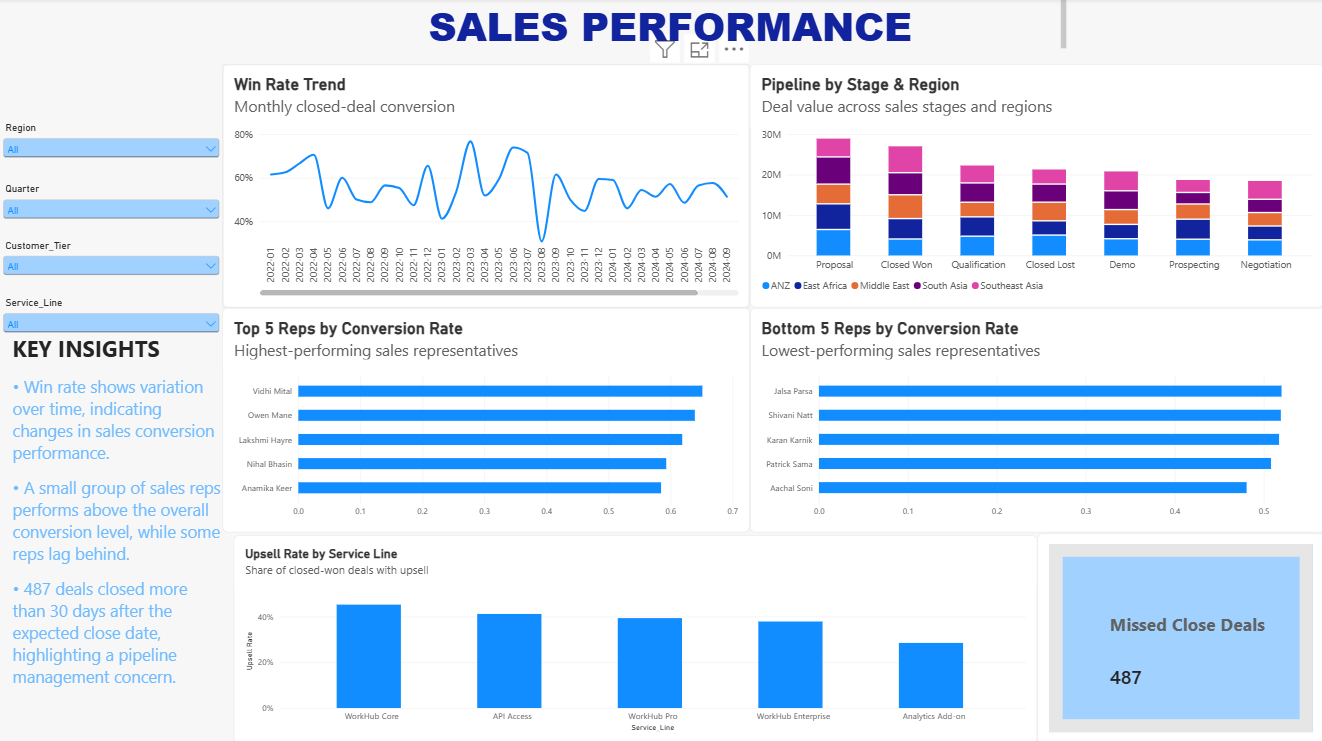

The page's visual inventory and layout, read from the dashboard file:
{"tool":"powerbi","page":{"name":"SALES PERFORMANCE","canvas":[1920,1080],"ordinal":0},"visuals":[{"type":"lineChart","title":"Win Rate Trend","fields":{"Y":["Measure.Win Rate"],"Category":["DateTable.Year Month"]},"box":[322,96,764,352],"z":0},{"type":"columnChart","title":"Pipeline by Stage & Region","fields":{"Category":["Sales_Pipeline.Sales_Stage"],"Y":["Sum(Sales_Pipeline.Deal_Value_USD)"],"Series":["Sales_Pipeline.Region"]},"box":[1086,96,832,352],"z":1000},{"type":"clusteredBarChart","title":"Top 5 Reps by Conversion Rate","fields":{"Category":["Sales_Pipeline.Sales_Rep_Name"],"Y":["Measure.Rep Conversion Rate"]},"box":[322.4,448.8,763.5,325],"z":2000},{"type":"clusteredBarChart","title":"Bottom 5 Reps by Conversion Rate","fields":{"Category":["Sales_Pipeline.Sales_Rep_Name"],"Y":["Measure.Rep Conversion Rate"]},"box":[1086.4,449.4,833.3,324.7],"z":3000},{"type":"clusteredColumnChart","title":"Upsell Rate by Service Line","fields":{"Y":["Measure.Upsell Rate"],"Category":["Sales_Pipeline.Service_Line"]},"box":[338,778,1163.3,301.8],"z":4000},{"type":"cardVisual","title":"Missed Close Deals","fields":{"Data":["Measure.Missed Close Deals"]},"box":[1502,774,416,306],"z":5000},{"type":"slicer","fields":{"Values":["Sales_Pipeline.Region"]},"box":[0,179.5,322.7,55.7],"z":6000},{"type":"slicer","fields":{"Values":["DateTable.Quarter"]},"box":[0,268.2,322.7,54.5],"z":7000},{"type":"slicer","fields":{"Values":["Customers.Customer_Tier"]},"box":[0,350,322.7,54.5],"z":8000},{"type":"slicer","fields":{"Values":["SaaS_Financials.Service_Line"]},"box":[0,431.8,322.7,53.4],"z":9000},{"type":"textbox","box":[406,0,1138,76],"z":10000},{"type":"textbox","box":[17.6,484.3,303.9,586.3],"z":11000}]}

Visuals, with their boxes in screenshot pixels (x1, y1, x2, y2), scaled from the page's 1920x1080 canvas onto the 1322x741 screenshot:
"Win Rate Trend" lineChart: 222 66 748 307
"Pipeline by Stage & Region" columnChart: 748 66 1321 307
"Top 5 Reps by Conversion Rate" clusteredBarChart: 222 308 748 531
"Bottom 5 Reps by Conversion Rate" clusteredBarChart: 748 308 1321 531
"Upsell Rate by Service Line" clusteredColumnChart: 233 534 1034 740
"Missed Close Deals" cardVisual: 1034 531 1321 740
slicer - Sales_Pipeline.Region: 0 123 222 161
slicer - DateTable.Quarter: 0 184 222 221
slicer - Customers.Customer_Tier: 0 240 222 278
slicer - SaaS_Financials.Service_Line: 0 296 222 333
textbox: 280 0 1063 52
textbox: 12 332 221 735
